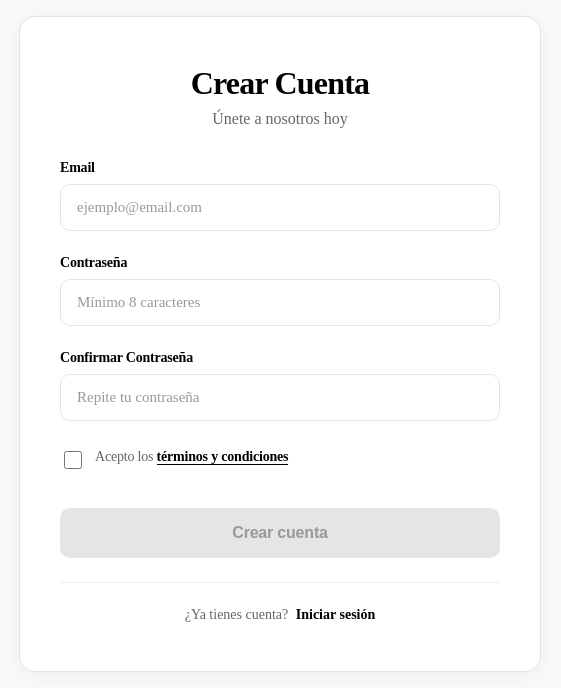
Test: Register.vue › Valida que las contraseñas coincidan
Type "password123" into the password field labelled "Contraseña".
click(280, 302); type("password123")  # box [60,279,500,326]
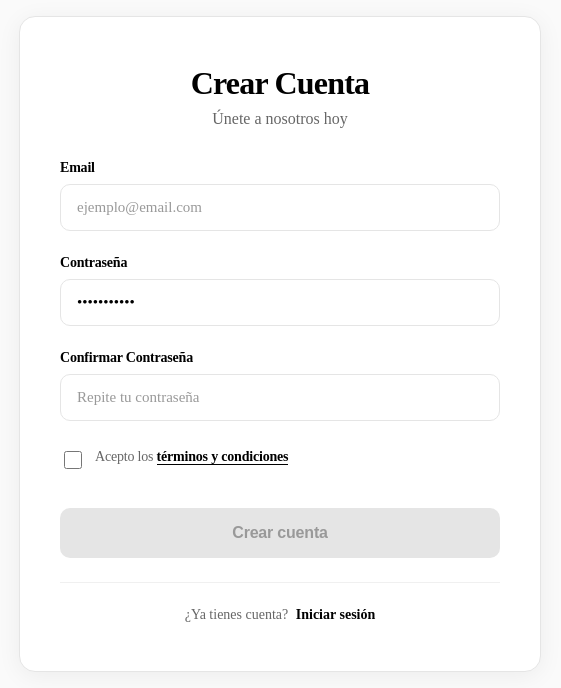
Type "passwordAAA" into the password field with id "confirmPassword".
click(280, 398); type("passwordAAA")  # box [60,374,500,421]
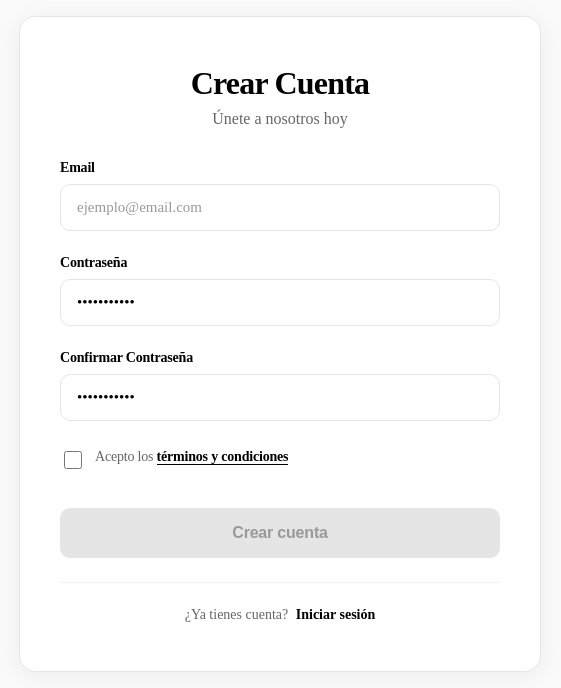
Leave the password field with id "confirmPassword", box [60,374,500,421]
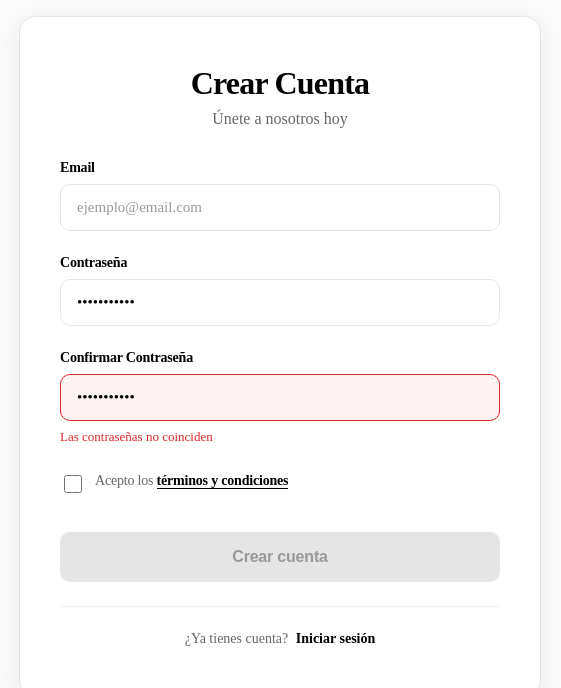
Expected: the submit button is disabled, [60,532,500,582]
Expected: the text "Las contraseñas no coinciden" is shown, [60,429,213,444]
